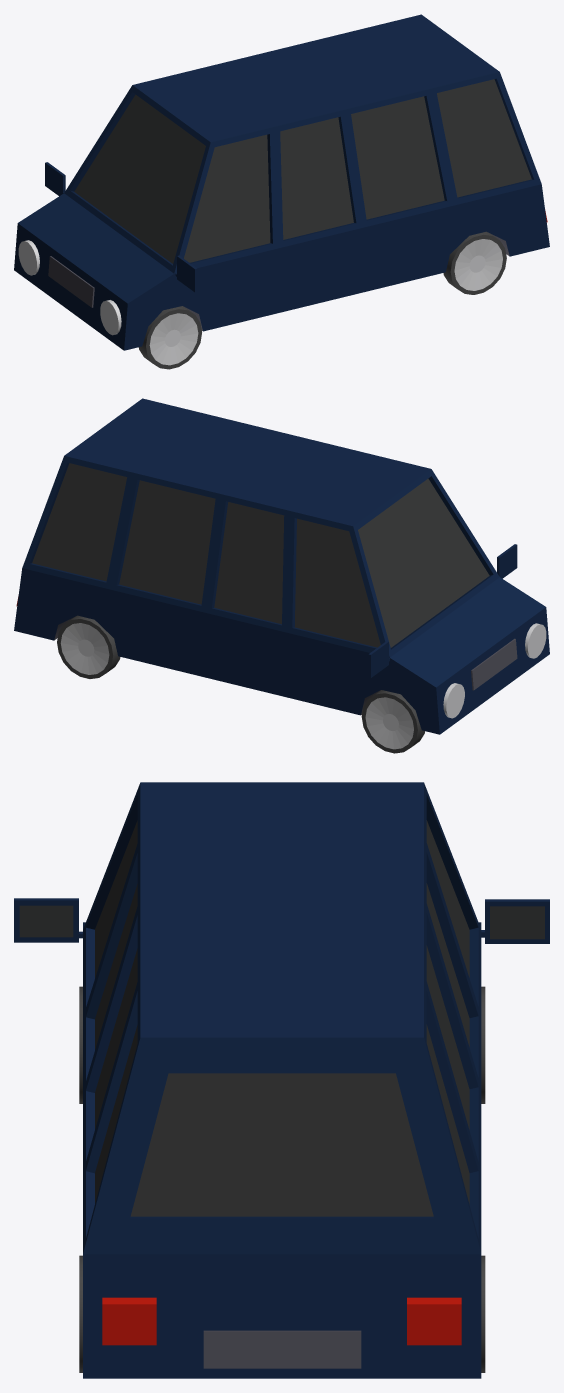
The model's file is car6.FBX.
3 views of the same model, one above another, from view 1: azimuth 30°, elevation 25°; view 2: azimuth 150°, elevation 25°; view 3: azimuth 270°, elevation 25° (orthographic). The views are drawn at different scales.
Visible parts, largest first — view 1: car6; view 2: car6; view 3: car6.
Boxes of the visible parts, <box> form: car6: <box>14,14,549,369</box>; car6: <box>14,398,549,753</box>; car6: <box>14,782,549,1378</box>.
Bounding box in the file's own units: 12.5 × 5.57 × 7.46.
